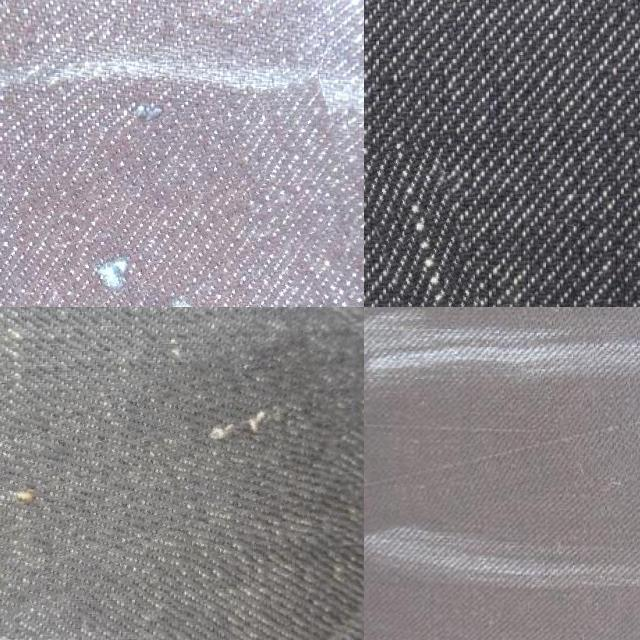Thread_other: (0, 358, 349, 606), (0, 101, 364, 307), (364, 376, 640, 514), (370, 142, 474, 307)
